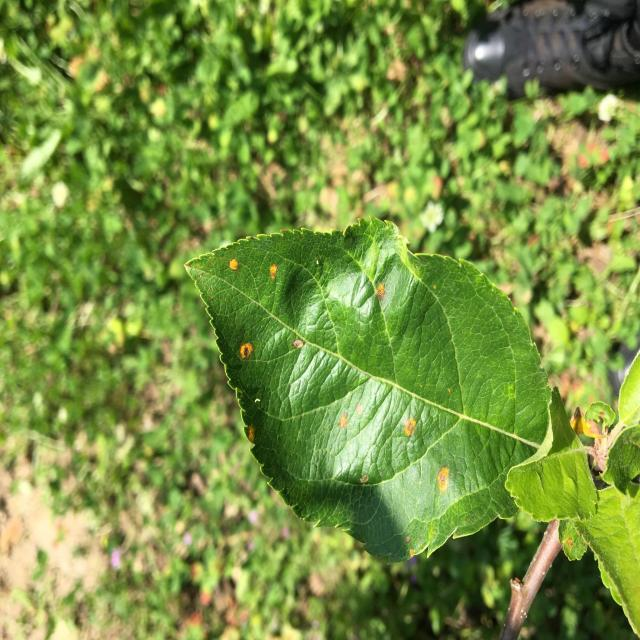Rust: (434, 464, 452, 502), (370, 276, 390, 308), (400, 412, 419, 442), (236, 336, 256, 364), (242, 415, 258, 447), (266, 258, 280, 294), (227, 250, 242, 280), (332, 413, 357, 430), (287, 336, 310, 352), (352, 394, 364, 421)
